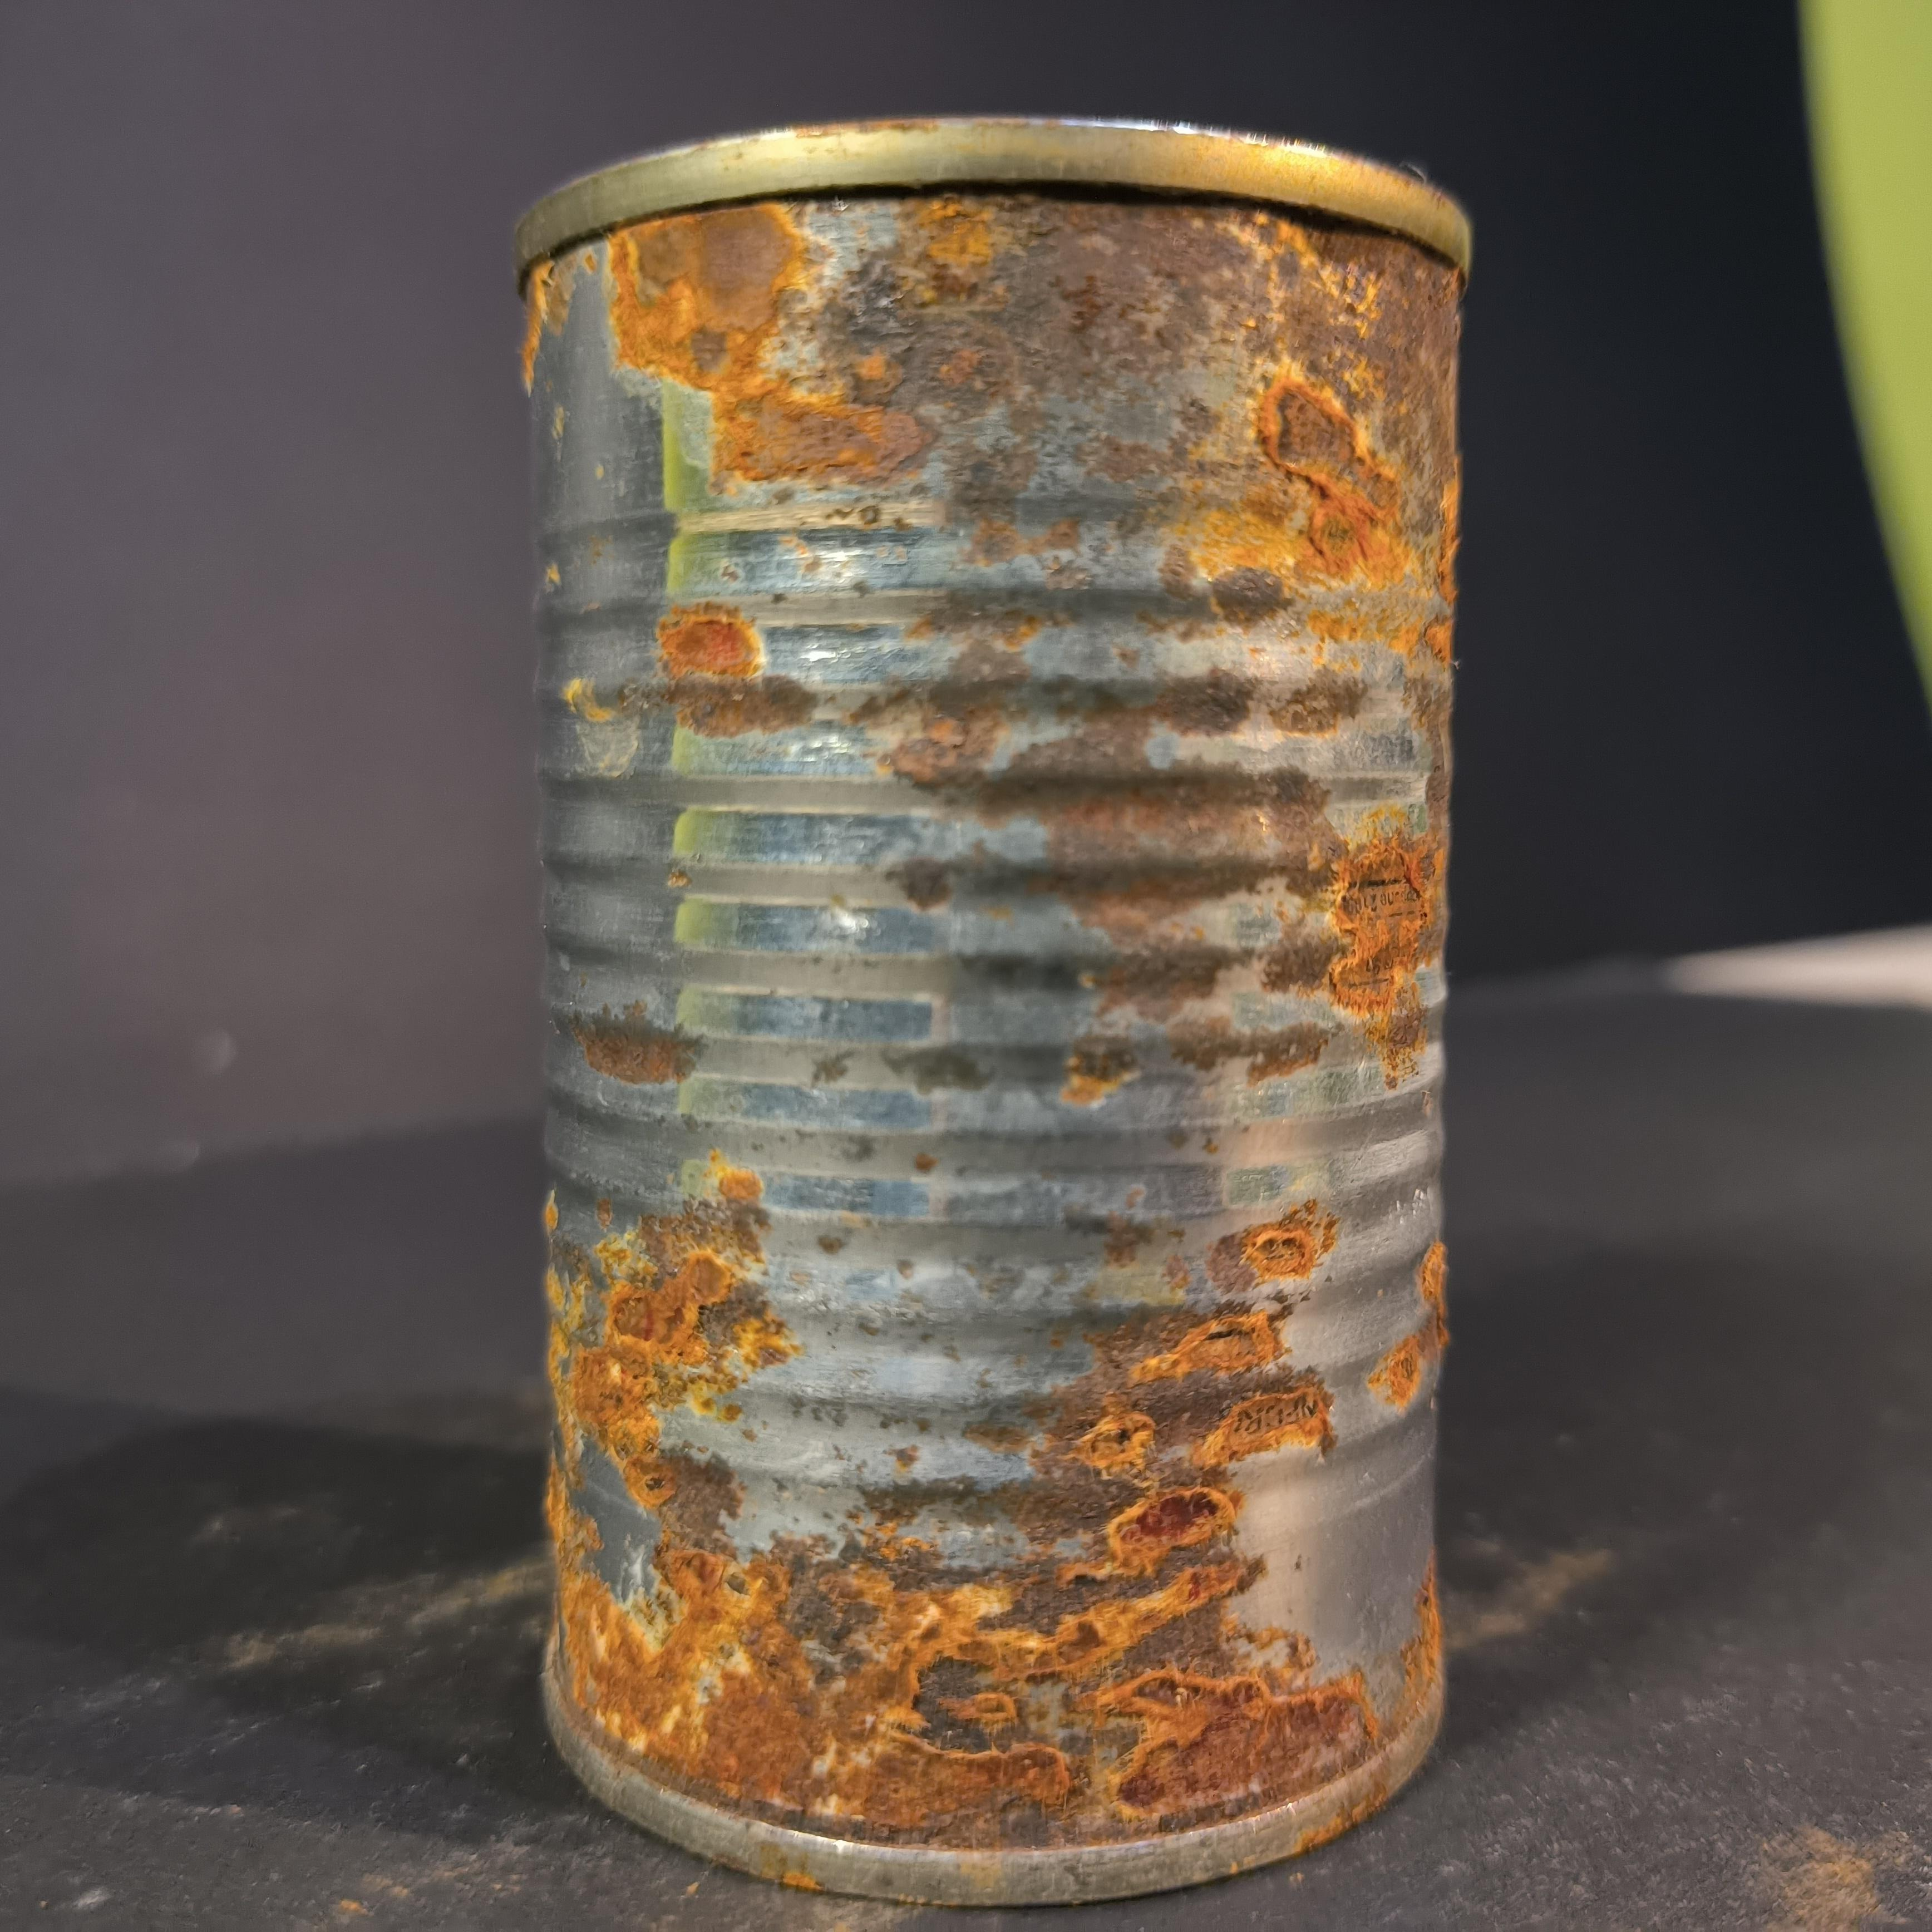Rusted: (471, 103, 1511, 1909)
